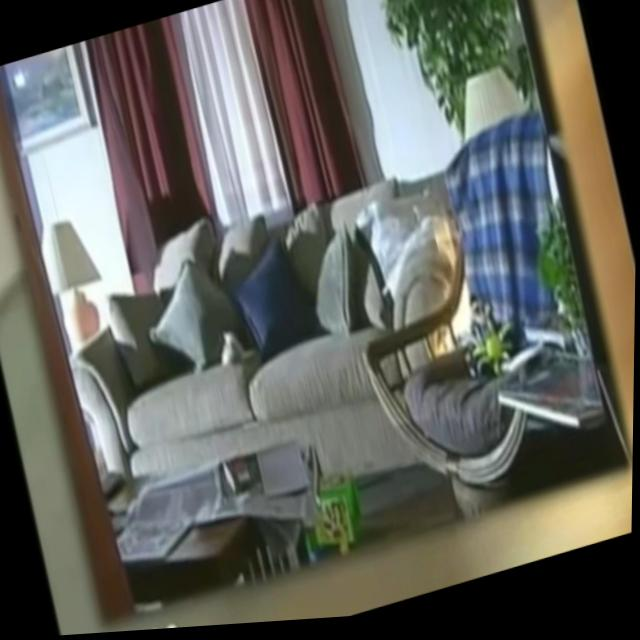fire: (409, 221, 484, 372)
